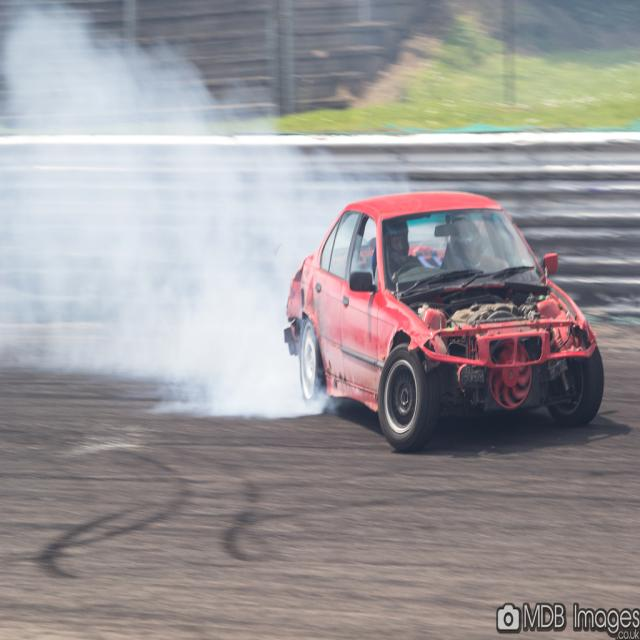car: (284, 189, 604, 453)
